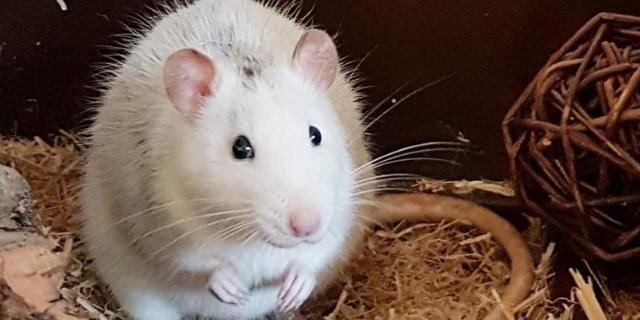rat: (58, 1, 408, 319)
